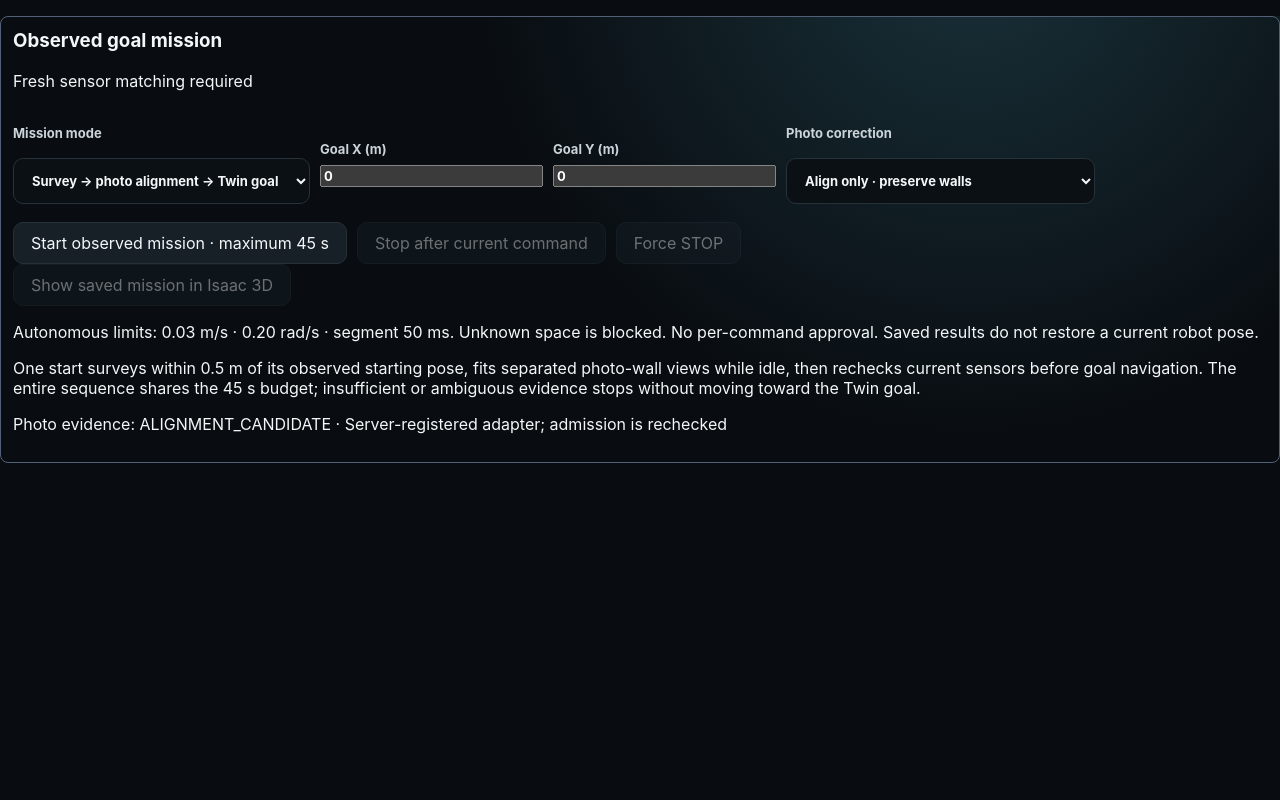
Test: current observed mission › reports late storage failure after arrival rather than displaying an unsaved success
Step 1. Click the button "Start observed mission · maximum 45 s" → (180, 243), box [13, 222, 347, 264]
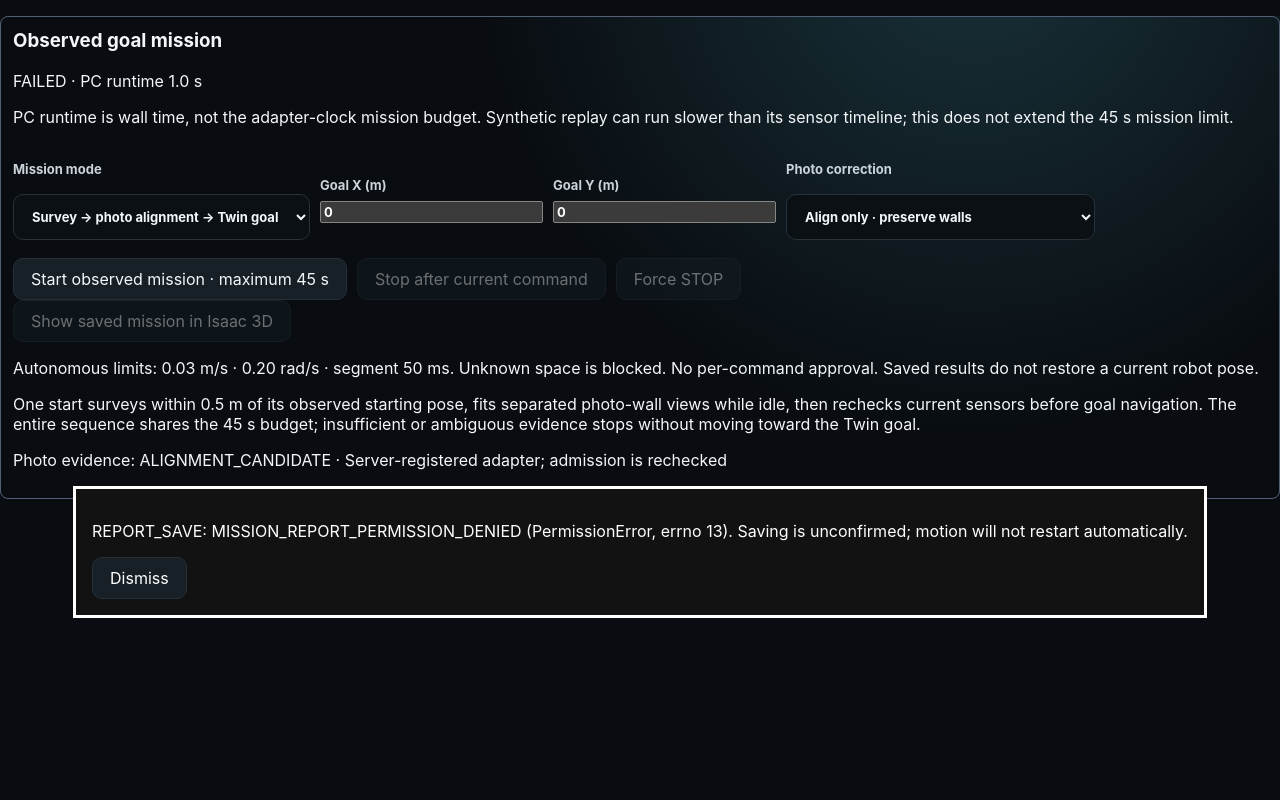
Expected: the button "Show saved mission in Isaac 3D" is disabled, [13, 300, 291, 342]
Expected: the dialog shows "MISSION_REPORT_PERMISSION_DENIED (PermissionError, errno 13)", [92, 521, 1188, 541]
